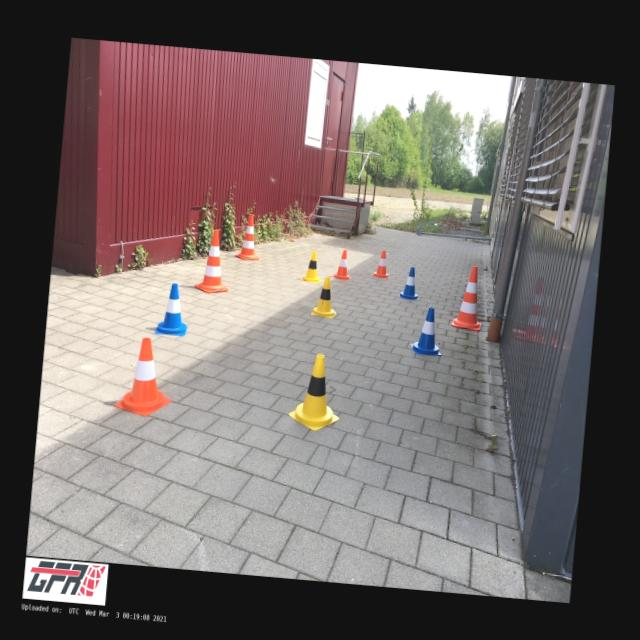blue_cone: (156, 282, 190, 336), (409, 305, 445, 356), (399, 265, 421, 300)
large_orange_cone: (194, 228, 232, 294), (450, 264, 486, 331), (235, 212, 263, 260)
orange_cone: (114, 335, 176, 418), (333, 250, 353, 280), (372, 249, 392, 278)
yellow_cone: (288, 352, 344, 433), (312, 276, 337, 317), (301, 249, 324, 283)
